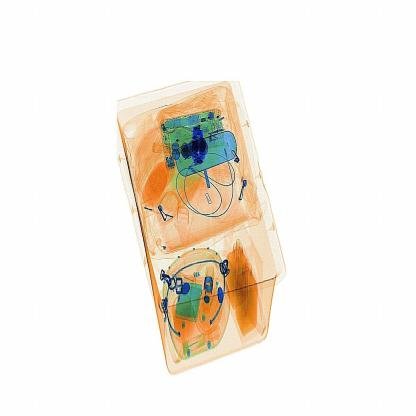scissors: (188, 115, 216, 179)
